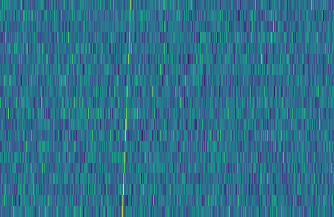signal: (117, 0, 135, 217)
